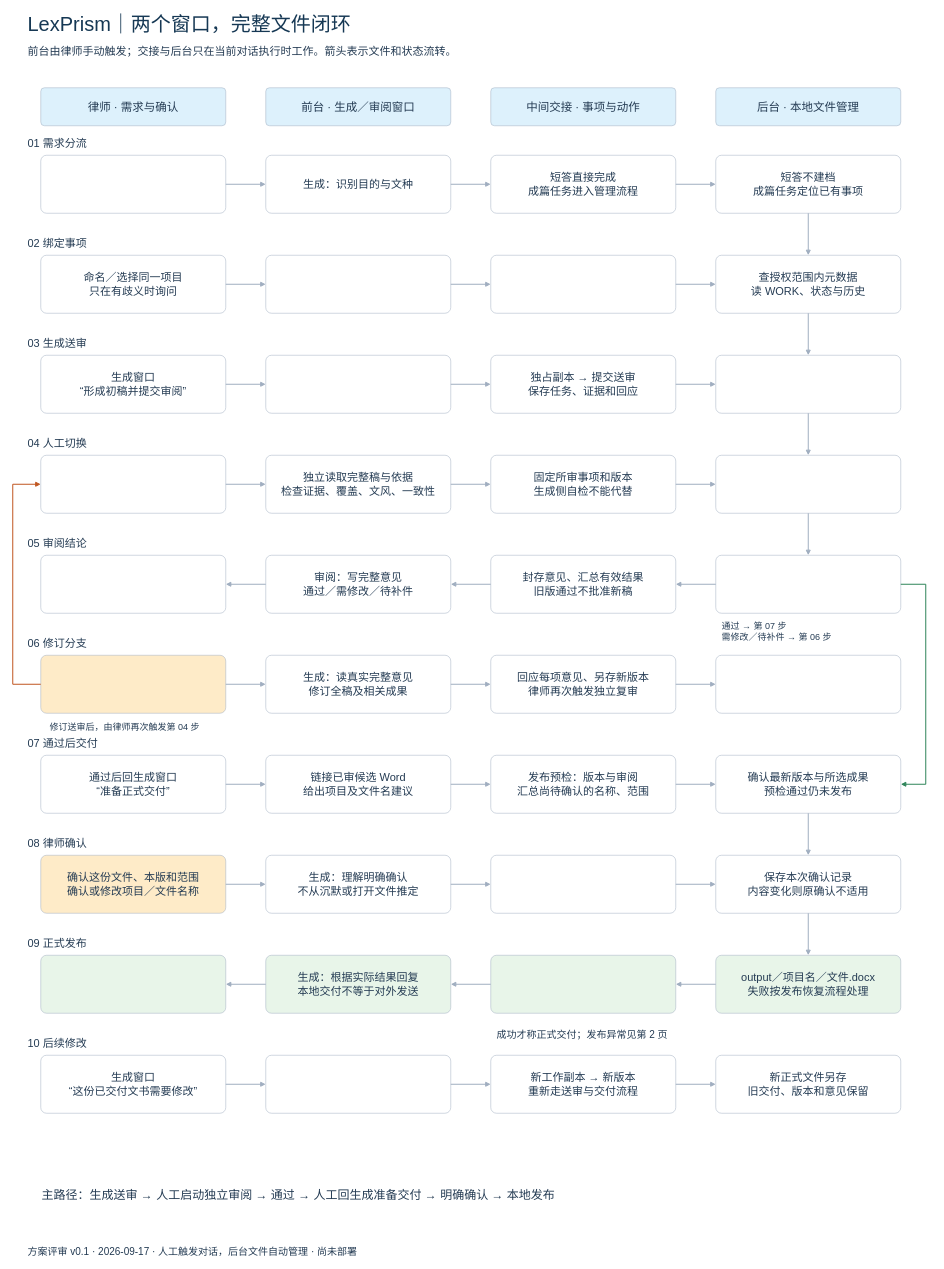
Some shapes in this 944 by 1269 pixel diagram are drawn without their labels. Each missing label, with the box of its shape:
保留原始完整审阅 状态等待律师下次触发: (715, 555, 901, 613)
切到审阅窗口 “审阅当前送审版本”: (40, 455, 226, 513)
发布时重新核验所有门槛 只复制已审、已确认文件: (490, 955, 676, 1013)
封存不可覆盖的版本 状态：待审阅: (715, 355, 901, 413)
建立本轮审阅目录 不改已送审正文: (715, 455, 901, 513)
描述问题、给出材料: (40, 155, 226, 213)
收到正式文件链接 无需移动、重命名或归档: (40, 955, 226, 1013)
旧版本与旧意见保留 新版本重新待审: (715, 655, 901, 713)
核对项目及当前版本 无法读取不等于不存在: (490, 255, 676, 313)
生成／审阅：读取入口 沿用各自的事项绑定: (265, 255, 451, 313)
生成：从旧内容建新稿 独立复审、重新确认: (265, 1055, 451, 1113)
研究 → 起草 → 自检 固定候选 Word 与核验稿: (265, 355, 451, 413)
记录原话、时间及来源 绑定文件、版本、名称、路径: (490, 855, 676, 913)
阅读结果及下一步 不用复制意见或找文件: (40, 555, 226, 613)
需修改：回生成窗口修订 待补件：提供关键材料: (40, 655, 226, 713)
